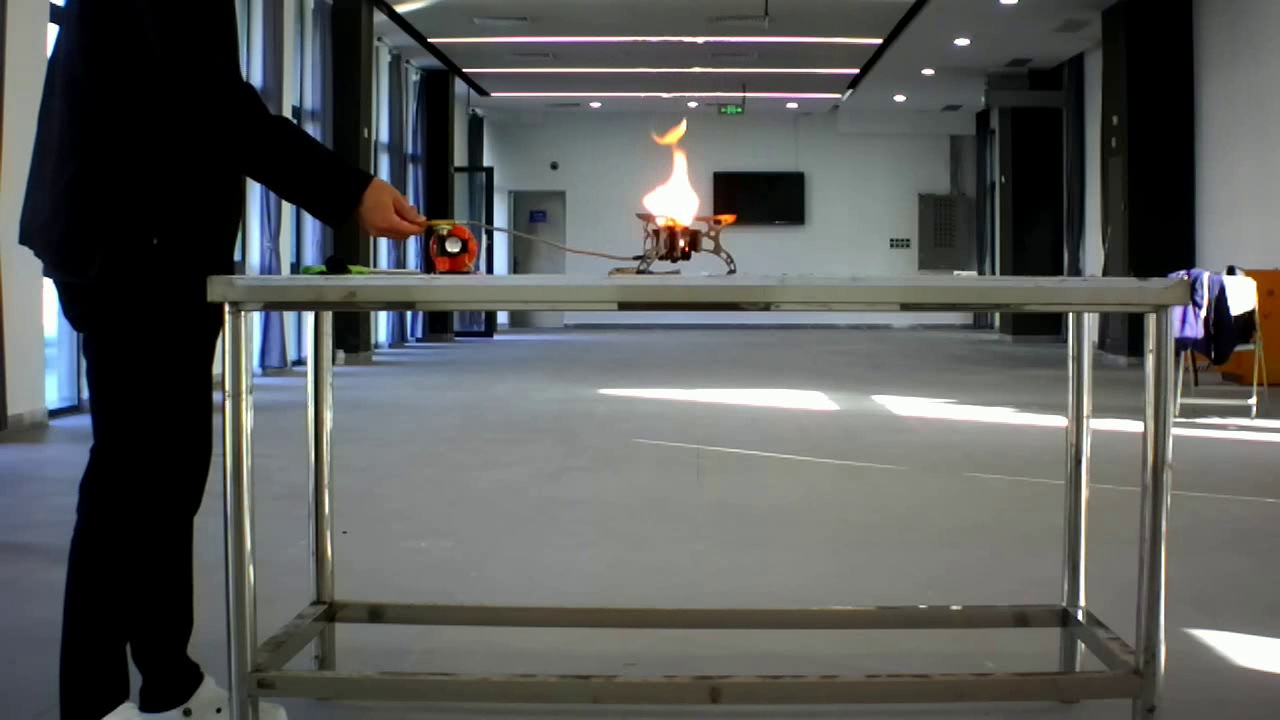Fire: (628, 111, 741, 259)
